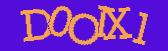0: (48, 5, 72, 36)
1: (132, 12, 147, 44)
D: (20, 9, 52, 41)
I: (94, 5, 109, 37)
O: (68, 13, 100, 45)
X: (102, 7, 132, 39)
